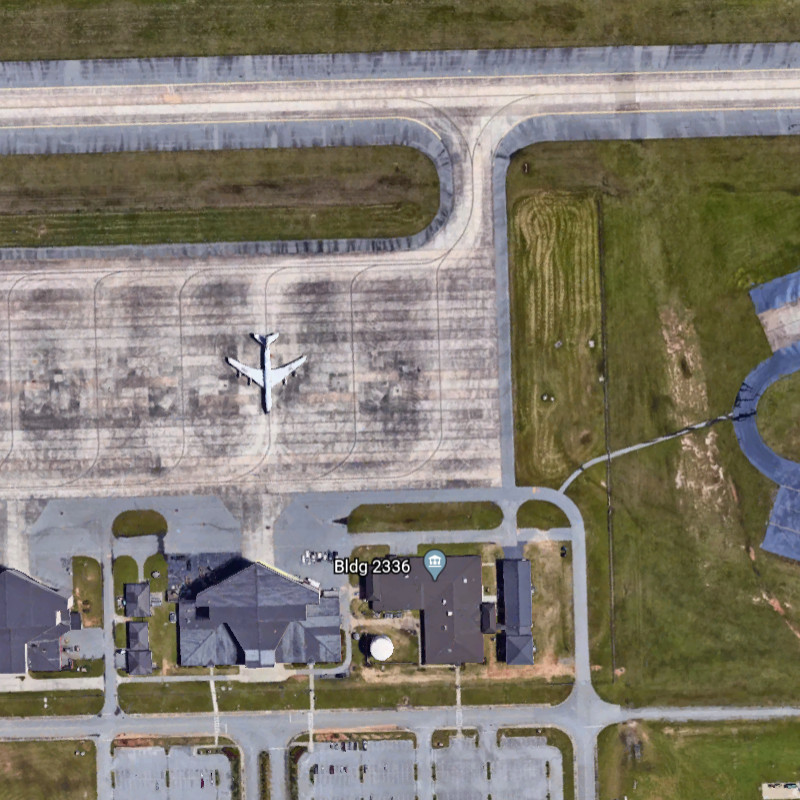A11: (215, 316, 322, 417)
